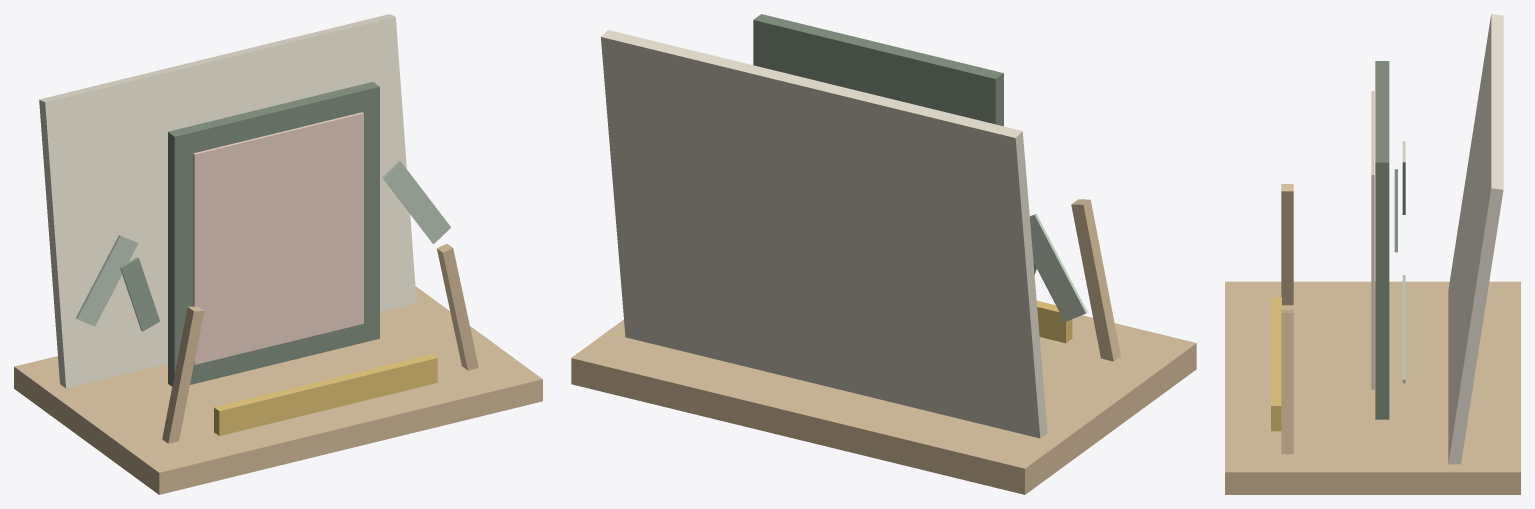
The model's file is intro.gltf.
3 renders of one model, left to right at view 1: azimuth 30°, elevation 25°; view 2: azimuth 150°, elevation 25°; view 3: azimuth 270°, elevation 25°, orthographic. The views are drawn at different scales.
Parts seen in each view (by area): view 1: Backdrop, Base, hotspot_portrait, Frame, NamePlate, SupportLeft, LeafC, SupportRight, LeafA, LeafB; view 2: Backdrop, Base, Frame, SupportLeft, LeafA, NamePlate; view 3: Base, Backdrop, Frame, SupportRight, SupportLeft, NamePlate, hotspot_portrait, LeafC, LeafB.
Boxes of the visible parts, x1,y1,x2,y2 form: Backdrop: (39,14,416,388); Base: (14,286,542,494); hotspot_portrait: (193,112,363,364); Frame: (168,82,379,386); NamePlate: (214,354,437,435); SupportLeft: (162,306,204,443); LeafC: (382,161,450,243); SupportRight: (437,244,478,370); LeafA: (76,235,138,326); LeafB: (120,257,159,331); Backdrop: (601,30,1047,438); Base: (571,315,1196,494); Frame: (753,14,1003,126); SupportLeft: (1071,199,1120,361); LeafA: (1029,213,1087,321); NamePlate: (1036,300,1072,343); Base: (1225,281,1520,494); Backdrop: (1448,14,1503,464); Frame: (1375,61,1389,419); SupportRight: (1281,310,1293,454); SupportLeft: (1281,184,1293,305); NamePlate: (1271,297,1281,431); hotspot_portrait: (1371,91,1374,389); LeafC: (1402,275,1405,383); LeafB: (1394,169,1397,252).
Bounding box in the file's own units: 2.9 × 2.12 × 1.9.
